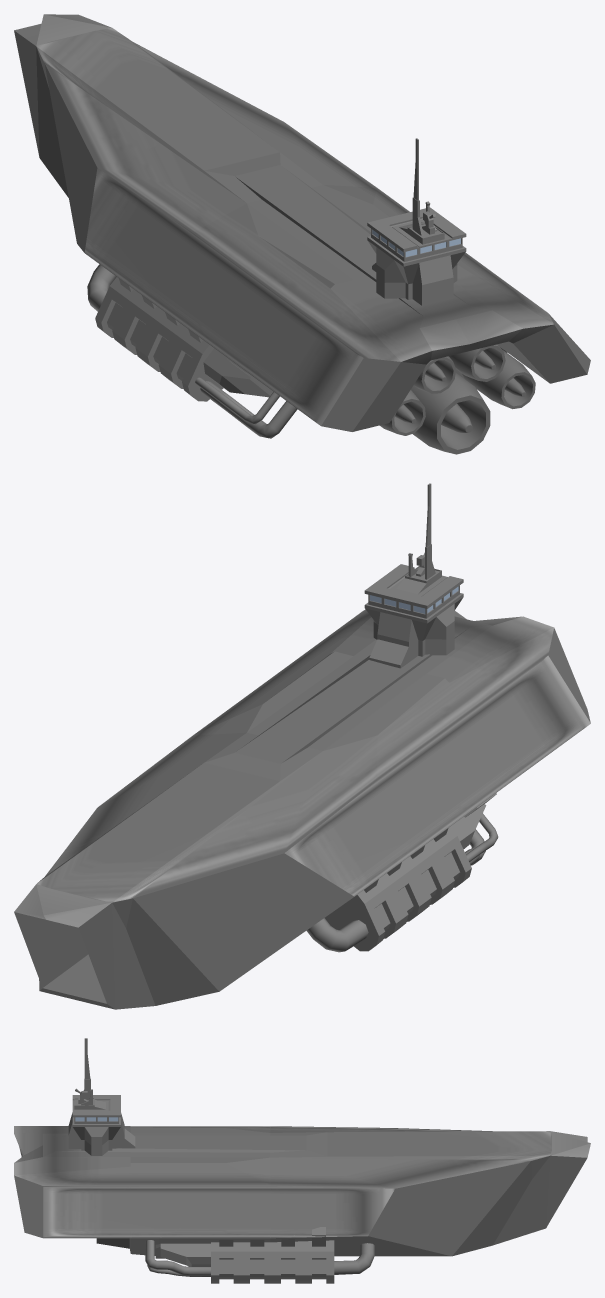
The model's file is battleship.fbx.
3 views of the same model, one above another, from view 1: azimuth 30°, elevation 25°; view 2: azimuth 150°, elevation 25°; view 3: azimuth 270°, elevation 25° (orthographic). The views are drawn at different scales.
Visible parts, largest first — view 1: 5-Engine.005, Vent Block.004, Bridge-1.002; view 2: 5-Engine.005, Vent Block.004, Bridge-1.002; view 3: 5-Engine.005, Vent Block.003, Bridge-1.002.
Part boxes in pixels (x1,y1,x2,y2): 5-Engine.005: [14, 14, 590, 454]; Vent Block.004: [87, 264, 297, 438]; Bridge-1.002: [367, 138, 466, 305]; 5-Engine.005: [14, 609, 590, 1009]; Vent Block.004: [306, 793, 498, 952]; Bridge-1.002: [364, 483, 463, 668]; 5-Engine.005: [14, 1126, 590, 1256]; Vent Block.003: [145, 1227, 374, 1283]; Bridge-1.002: [68, 1038, 135, 1155].
Size of the model in its own units: 557 by 562 by 1417.
